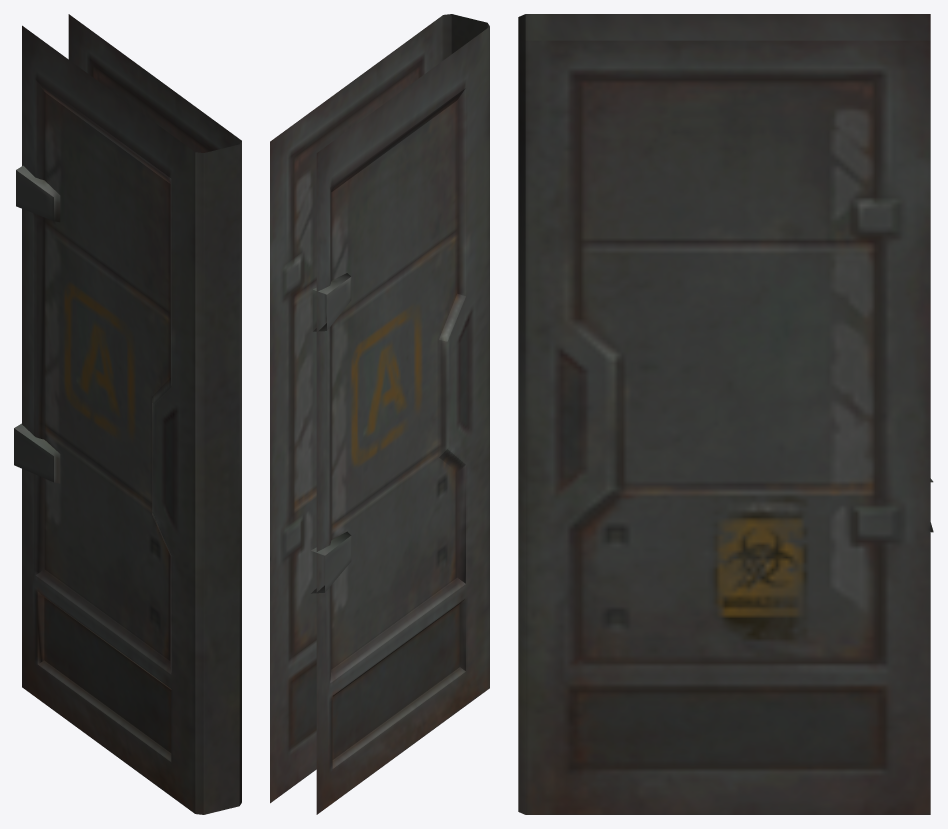
The model's file is Gate2L.FBX.
3 renders of one model, left to right at view 1: azimuth 30°, elevation 25°; view 2: azimuth 150°, elevation 25°; view 3: azimuth 270°, elevation 25°, orthographic. The views are drawn at different scales.
Visible parts, largest first — view 1: Gate2L; view 2: Gate2L; view 3: Gate2L.
Boxes of the visible parts, x1=… form: Gate2L: x1=14, y1=14, x2=241, y2=814; Gate2L: x1=270, y1=14, x2=489, y2=814; Gate2L: x1=518, y1=14, x2=933, y2=814.
Size of the model in its own units: 0.2002 by 2.31 by 1.12.
Materials: 1 (1 with a texture image).
